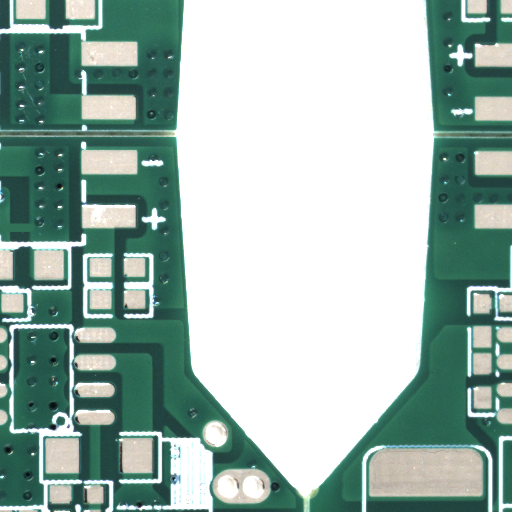Short: (20, 226, 45, 242)
